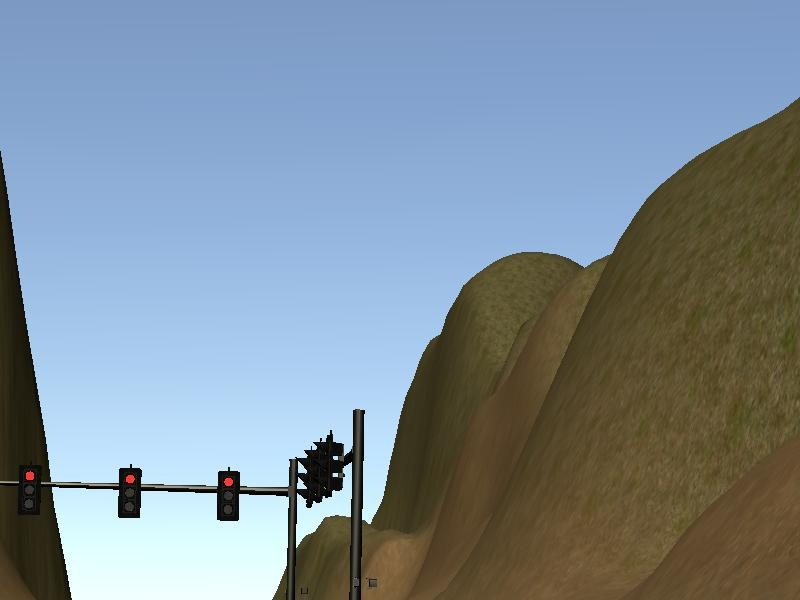RED: (116, 467, 140, 519), (216, 470, 240, 522), (16, 466, 40, 518)
